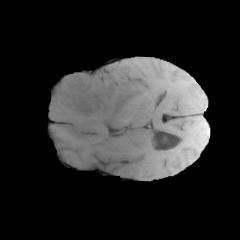glioma: (53, 66, 144, 132)
